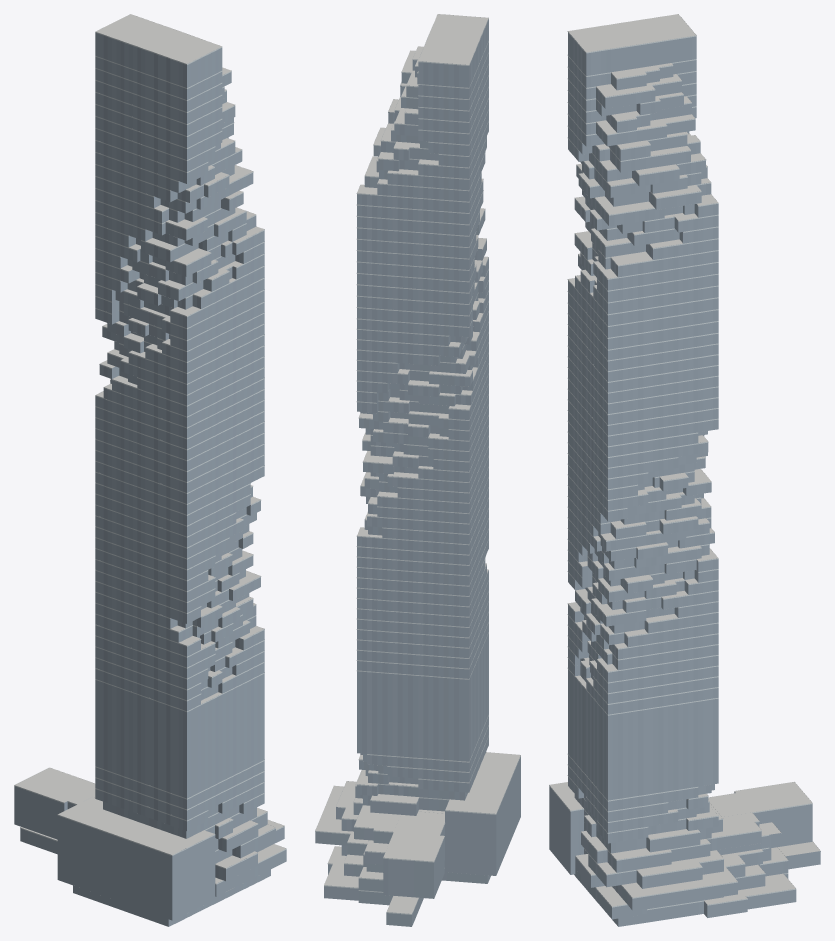
The model's file is mahanakhon.glb.
3 views of the same model, side by side, from view 1: azimuth 30°, elevation 25°; view 2: azimuth 150°, elevation 25°; view 3: azimuth 270°, elevation 25° (orthographic). The views are drawn at different scales.
Parts seen in each view (by area): view 1: mahanakhon; view 2: mahanakhon; view 3: mahanakhon.
Boxes of the visible parts, bbox=[...] form: mahanakhon: bbox=[14, 14, 286, 926]; mahanakhon: bbox=[315, 14, 520, 926]; mahanakhon: bbox=[549, 14, 820, 926].
Bounding box in the file's own units: 76.43 × 314 × 91.75.
